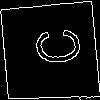C: (25, 27, 81, 67)
